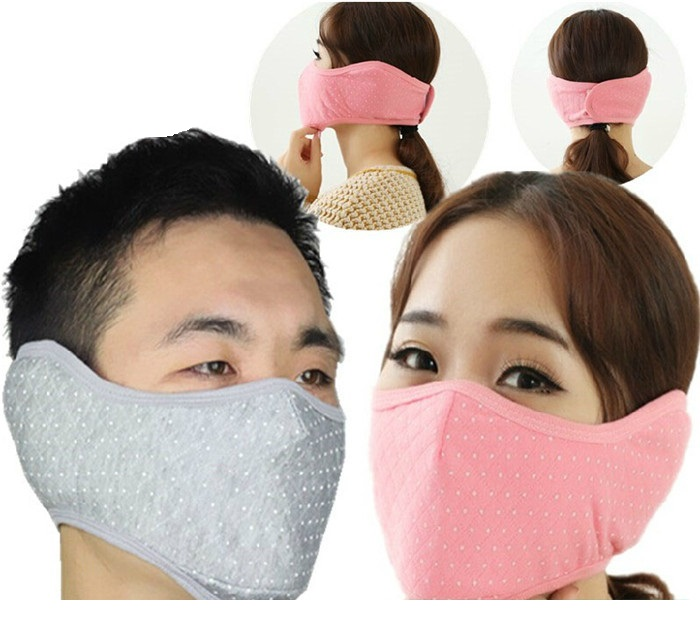face_mask: (368, 226, 603, 598), (117, 234, 347, 601), (304, 18, 380, 122)
